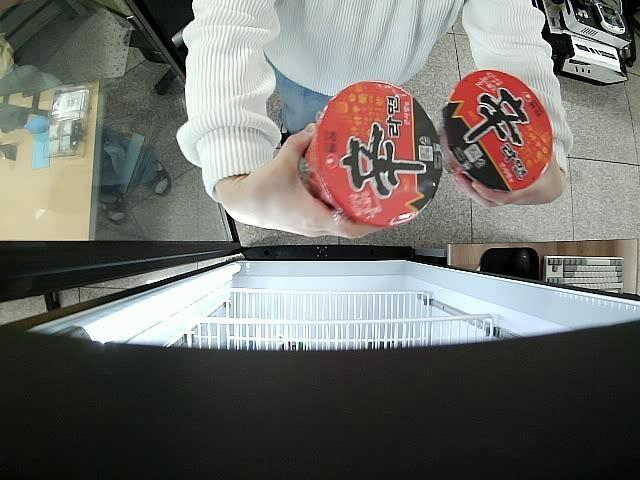01_ShinRamen_L: (300, 80, 442, 226), (442, 70, 554, 190)
